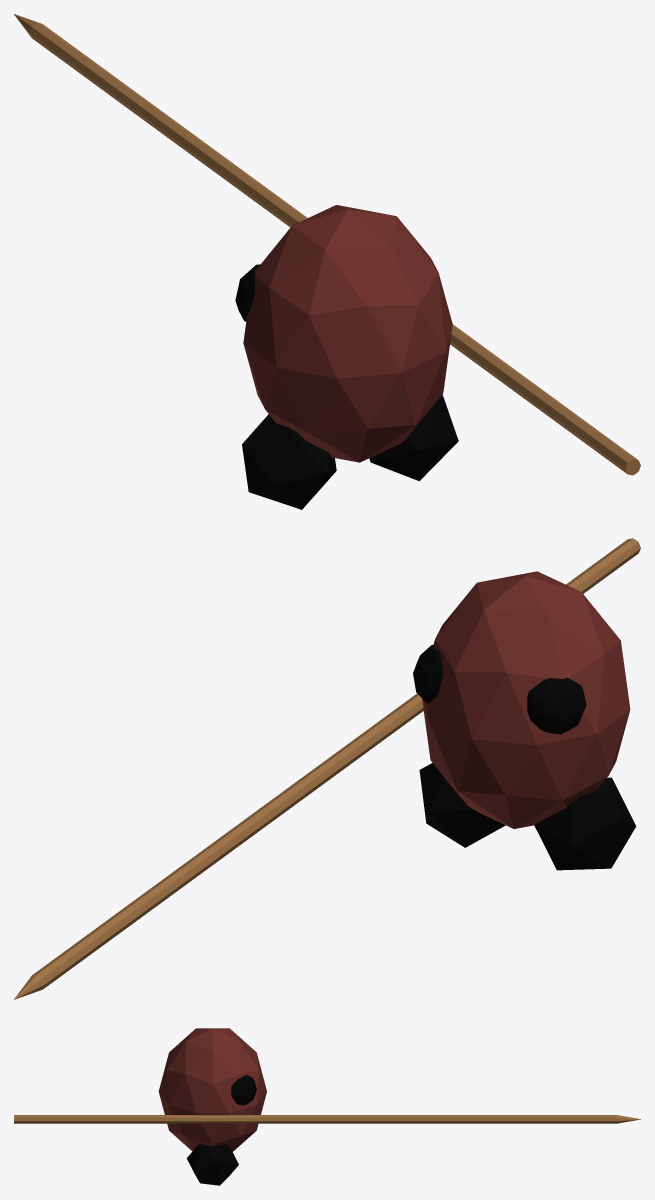
File: stab.f0002.glb
3 renders of one model, top to bottom at view 1: azimuth 30°, elevation 25°; view 2: azimuth 150°, elevation 25°; view 3: azimuth 270°, elevation 25°, orthographic. The views are drawn at different scales.
Parts seen in each view (by area): view 1: Body.001; view 2: Body.001; view 3: Body.001.
Part boxes in pixels (x1=…): Body.001: x1=14, y1=14, x2=640, y2=509; Body.001: x1=14, y1=538, x2=640, y2=999; Body.001: x1=14, y1=1028, x2=640, y2=1185.
Size of the model in its own units: 2.17 by 2.85 by 11.56.
1 material, 1 textured.
